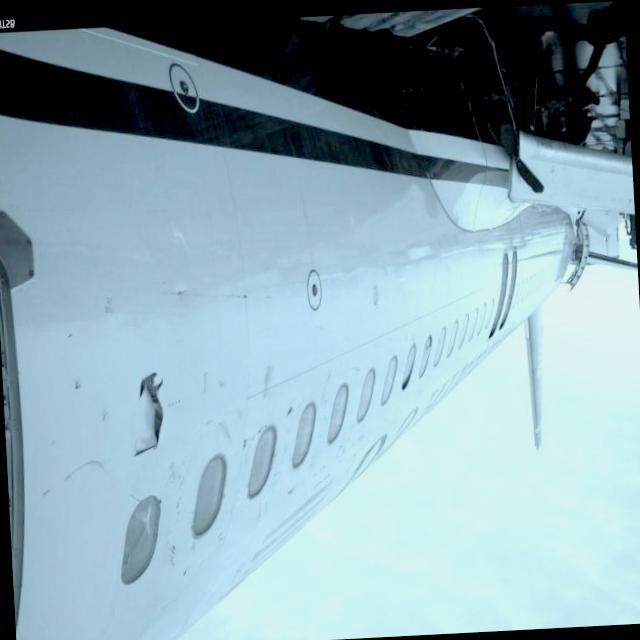crack: (124, 371, 170, 459)
